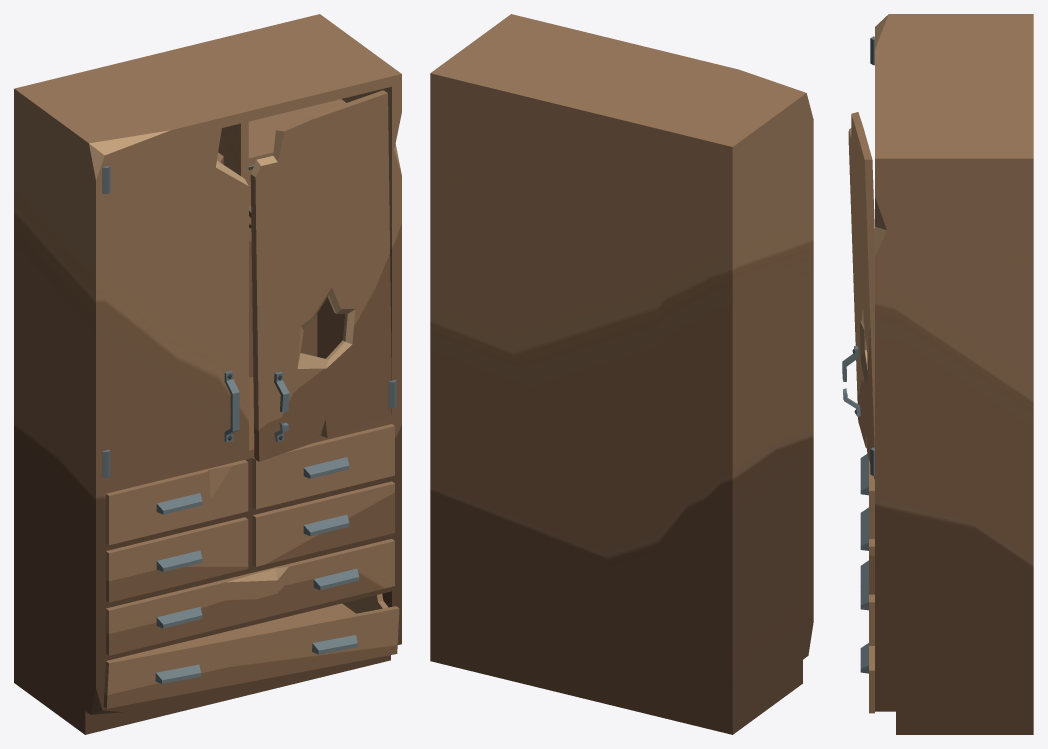
File: SM_Cupboard.fbx
3 views of the same model, side by side, from view 1: azimuth 30°, elevation 25°; view 2: azimuth 150°, elevation 25°; view 3: azimuth 270°, elevation 25° (orthographic). The views are drawn at different scales.
Parts seen in each view (by area): view 1: SM_Cupboard, SM_Cupboard_Door_L, SM_Cupboard_Door_R; view 2: SM_Cupboard; view 3: SM_Cupboard, SM_Cupboard_Door_R.
Part boxes in pixels (x1,y1,x2,y2): SM_Cupboard: [14, 14, 401, 734]; SM_Cupboard_Door_L: [102, 128, 248, 485]; SM_Cupboard_Door_R: [250, 90, 396, 461]; SM_Cupboard: [430, 14, 813, 734]; SM_Cupboard: [860, 14, 1033, 734]; SM_Cupboard_Door_R: [842, 112, 874, 479].
Size of the model in its own units: 133 by 246 by 74.27.
